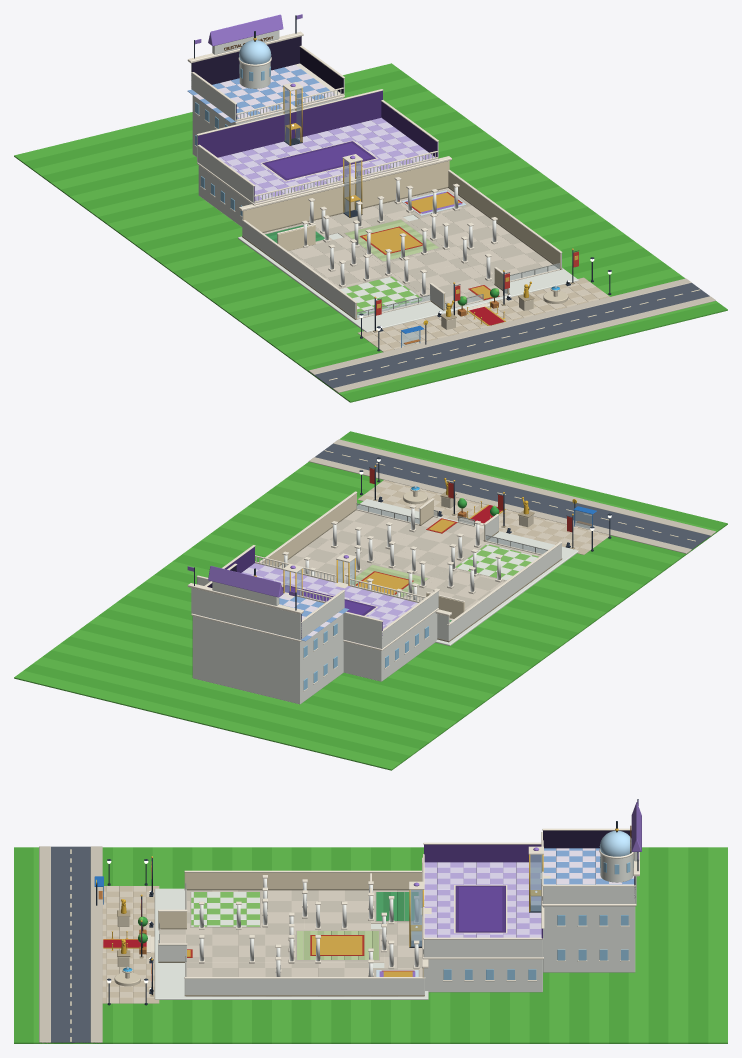
Rendered from shell.glb.
3 views of the same model, one above another, from view 1: azimuth 30°, elevation 25°; view 2: azimuth 150°, elevation 25°; view 3: azimuth 270°, elevation 25° (orthographic). The views are drawn at different scales.
Parts seen in each view (by area): view 1: grounds, building, floor_planetarium_deck, floor_star_terrace, crown, grand_2, lift_planetarium_deck, lift_star_terrace, dome; view 2: grounds, building, floor_star_terrace, floor_planetarium_deck, crown, grand_2, lift_planetarium_deck; view 3: grounds, building, floor_planetarium_deck, floor_star_terrace, crown, lift_planetarium_deck, lift_star_terrace, dome, grand_4, grand_2, grand_3.
Boxes of the visible parts, x1,y1,x2,y2 form: grounds: [14, 63, 727, 402]; building: [238, 160, 578, 332]; floor_planetarium_deck: [196, 89, 438, 226]; floor_star_terrace: [187, 36, 344, 156]; crown: [187, 14, 451, 211]; grand_2: [373, 248, 578, 332]; lift_planetarium_deck: [341, 154, 362, 217]; lift_star_terrace: [281, 82, 303, 145]; dome: [239, 40, 271, 64]; grounds: [14, 431, 727, 770]; building: [260, 491, 578, 645]; floor_star_terrace: [191, 563, 349, 704]; floor_planetarium_deck: [196, 545, 438, 681]; crown: [187, 566, 451, 616]; grand_2: [369, 465, 574, 549]; lift_planetarium_deck: [335, 553, 356, 588]; grounds: [14, 846, 727, 1043]; building: [146, 870, 428, 999]; floor_planetarium_deck: [422, 832, 544, 992]; floor_star_terrace: [541, 828, 636, 972]; crown: [422, 799, 641, 968]; lift_planetarium_deck: [409, 881, 431, 947]; lift_star_terrace: [528, 846, 550, 912]; dome: [599, 830, 631, 856]; grand_4: [117, 899, 130, 966]; grand_2: [138, 856, 153, 996]; grand_3: [103, 890, 153, 993].
Size of the model in its own units: 35 by 10.53 by 54.
